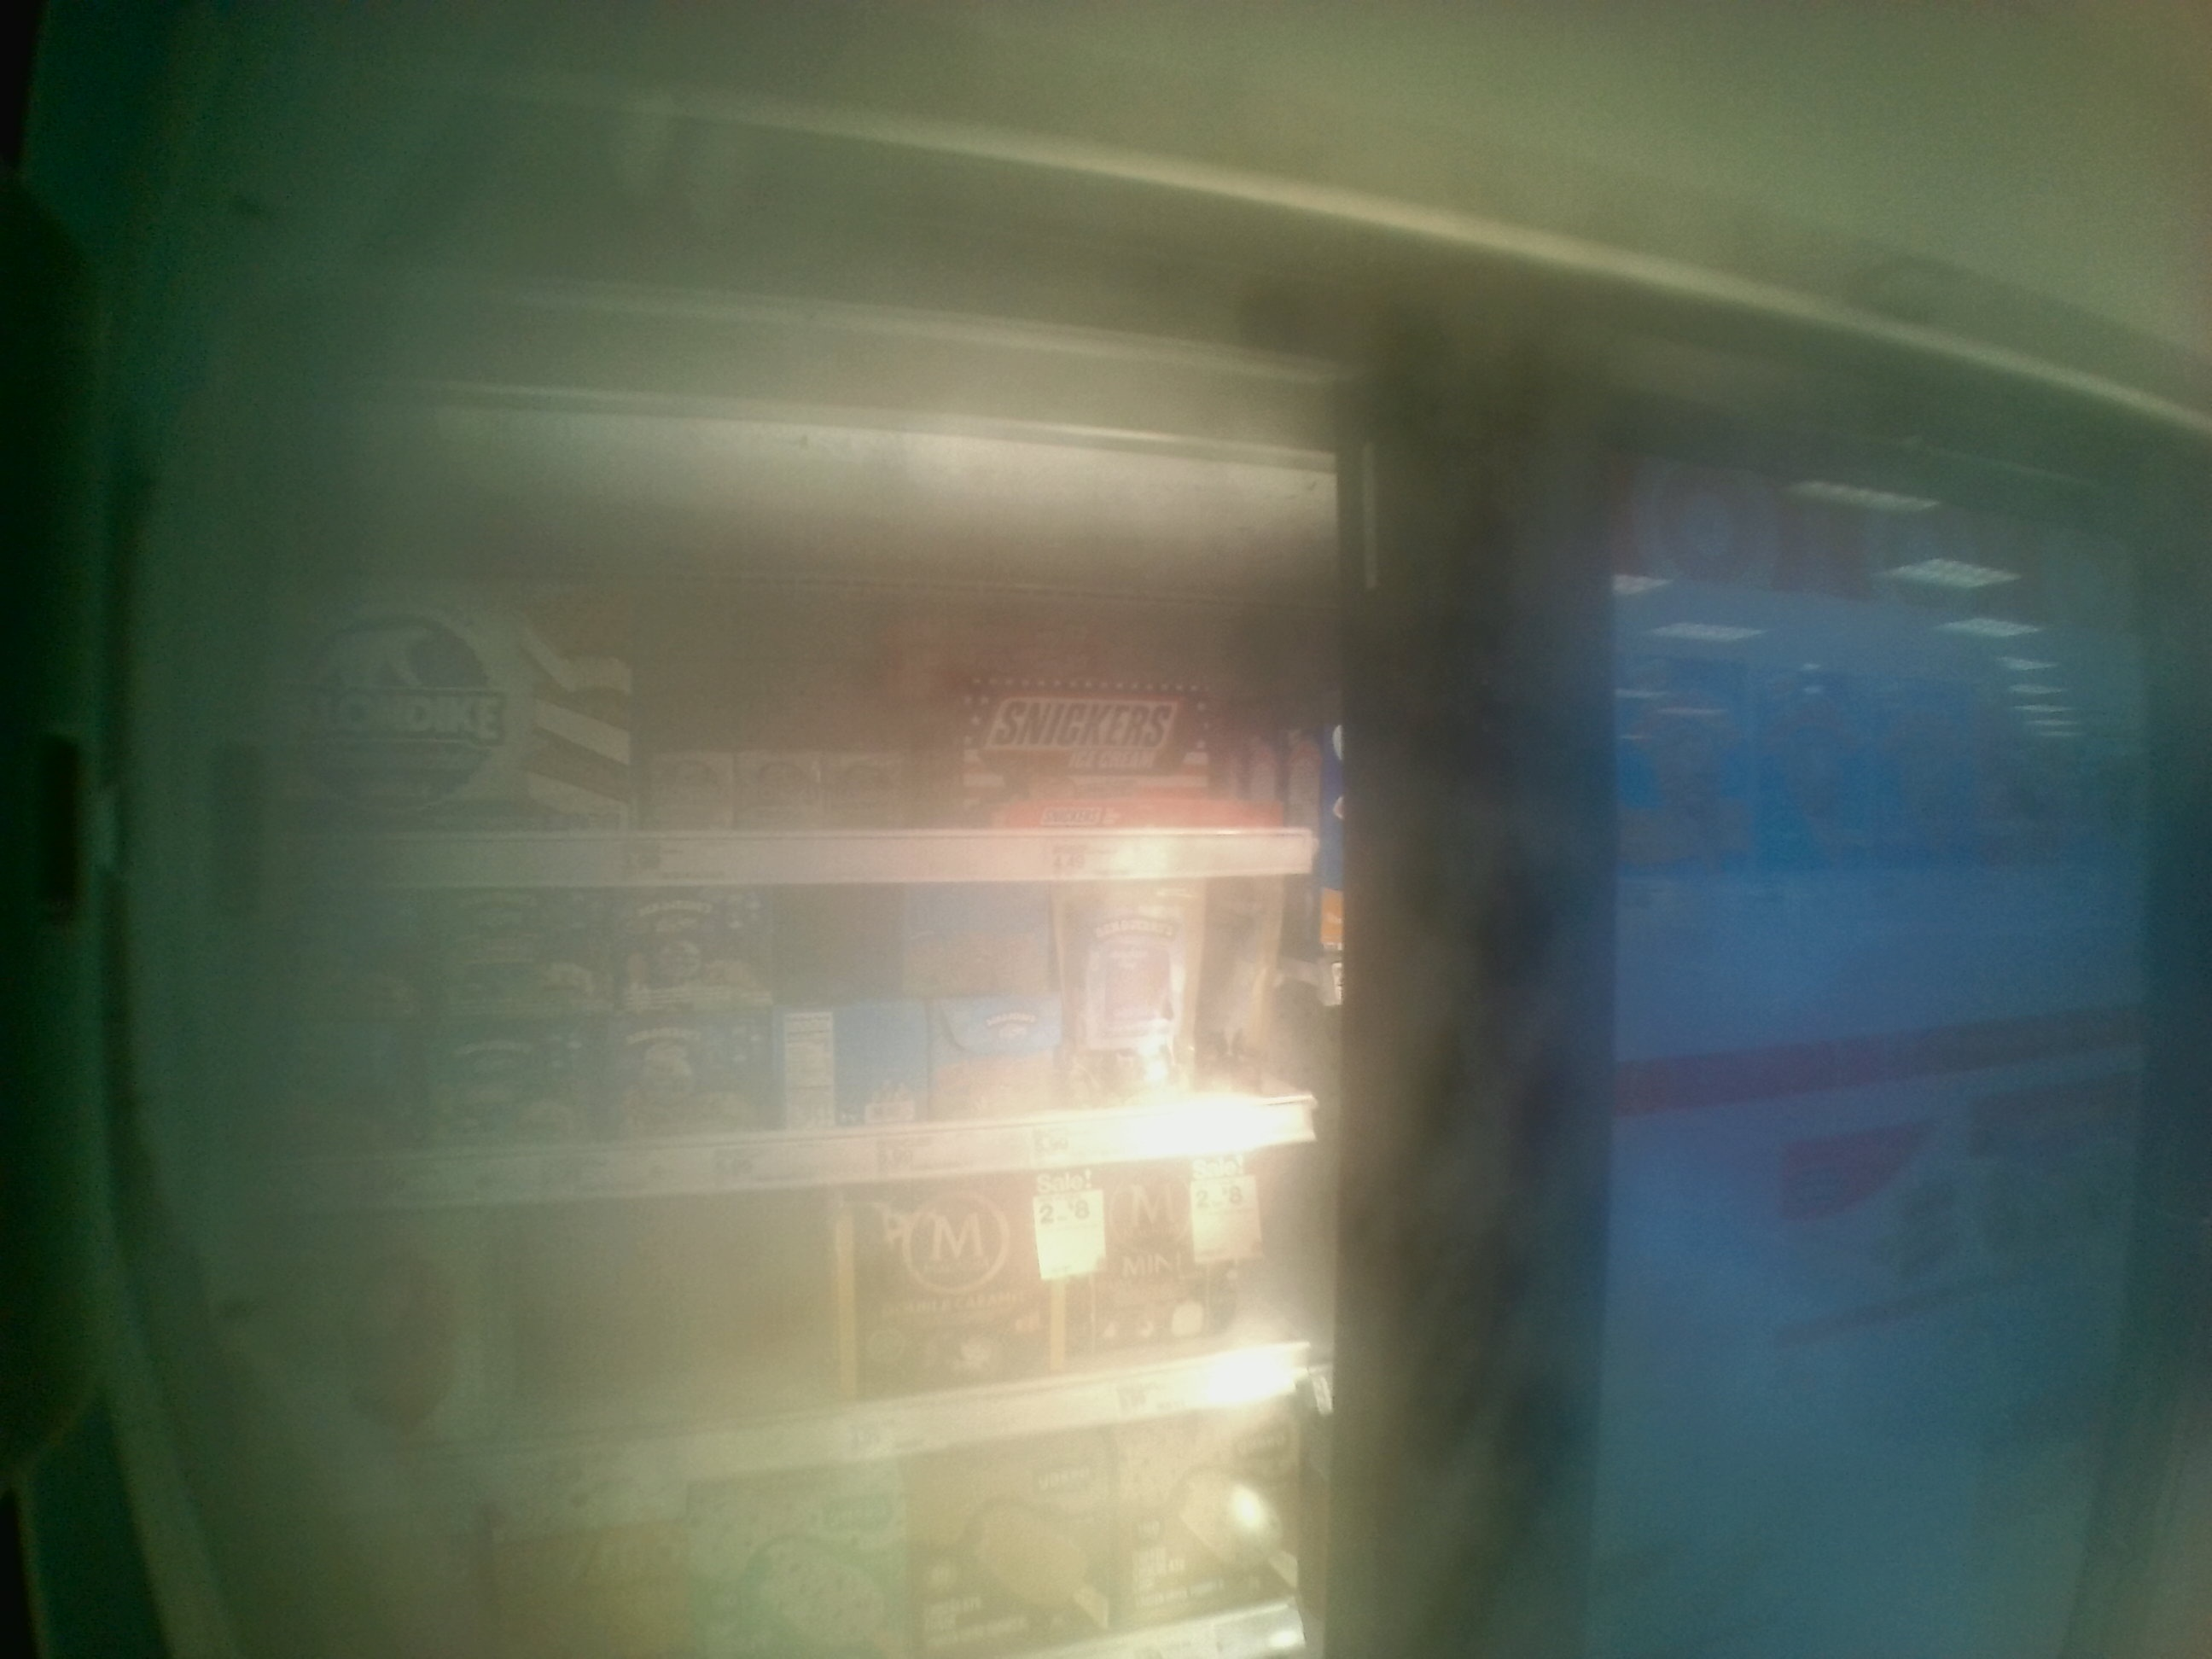shelf: (256, 450, 1359, 878), (249, 878, 1353, 1230)
